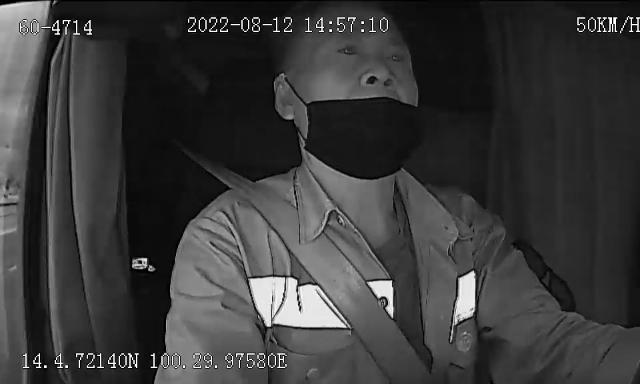SafeDriving: (380, 44, 410, 68)
Seatbelt: (172, 112, 450, 384)
